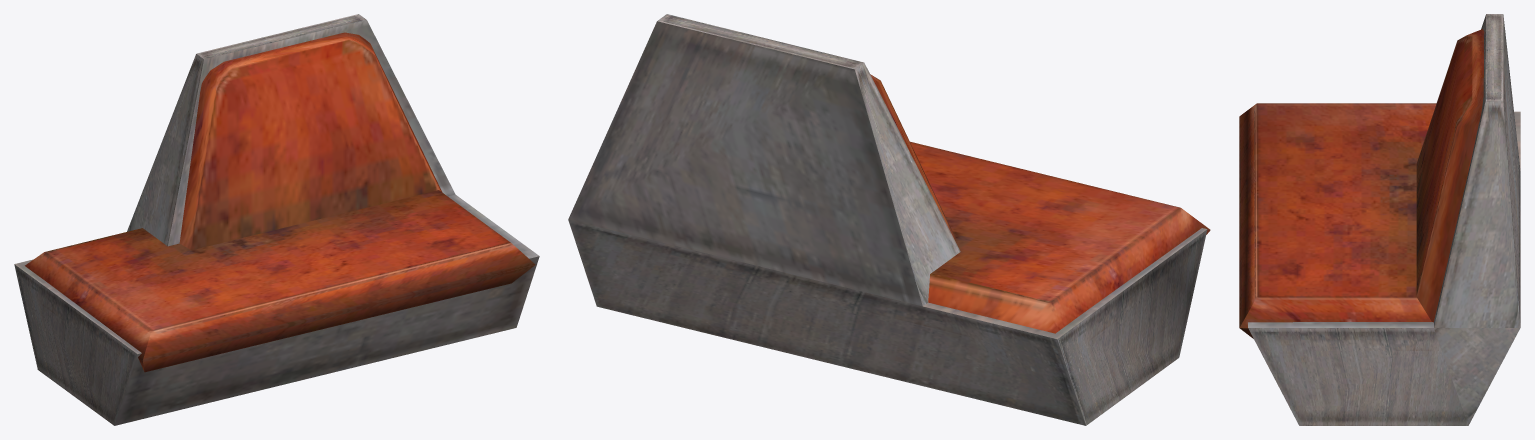
File: frn_all_chep_love_seat_s01_l0.fbx
3 renders of one model, left to right at view 1: azimuth 30°, elevation 25°; view 2: azimuth 150°, elevation 25°; view 3: azimuth 270°, elevation 25°, orthographic. The views are drawn at different scales.
Visible parts, largest first — view 1: mesh_node; view 2: mesh_node; view 3: mesh_node.
Part boxes in pixels (x1,y1,x2,y2): mesh_node: (14, 14, 539, 425); mesh_node: (568, 14, 1210, 425); mesh_node: (1239, 14, 1520, 425).
Bounding box in the file's own units: 1.6 × 0.9996 × 0.8802.
